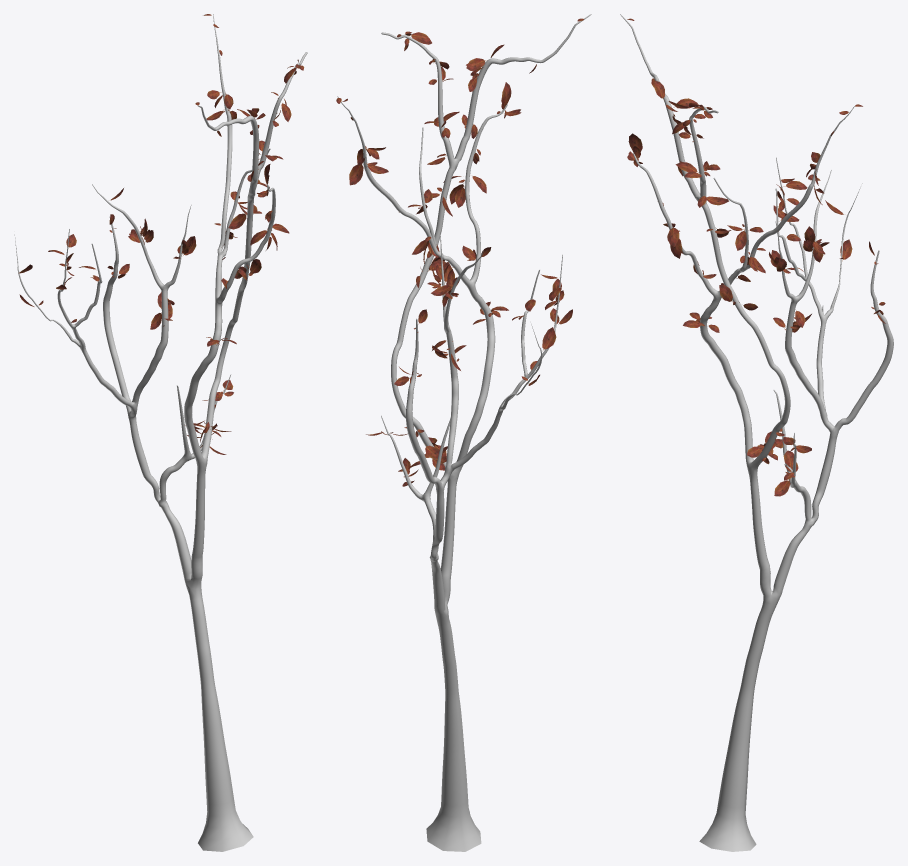
Rendered from baumle.fbx.
3 renders of one model, left to right at view 1: azimuth 30°, elevation 25°; view 2: azimuth 150°, elevation 25°; view 3: azimuth 270°, elevation 25°, orthographic.
Parts seen in each view (by area): view 1: Plane.037; view 2: Plane.037; view 3: Plane.037.
Part boxes in pixels (x1,y1,x2,y2): Plane.037: [14, 14, 307, 851]; Plane.037: [336, 14, 591, 851]; Plane.037: [620, 14, 893, 851].
Size of the model in its own units: 231 by 768 by 240.
